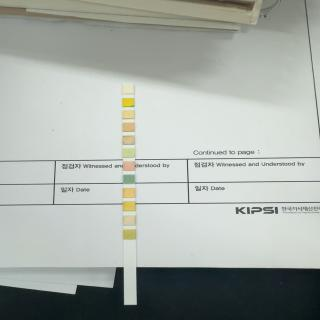mark: (124, 229, 136, 239), (123, 215, 135, 225), (123, 201, 135, 211), (122, 122, 134, 132), (123, 188, 135, 197), (123, 148, 135, 157), (124, 174, 134, 184), (123, 136, 135, 144), (123, 85, 133, 94), (124, 162, 134, 170), (124, 110, 134, 118), (123, 98, 133, 106)
